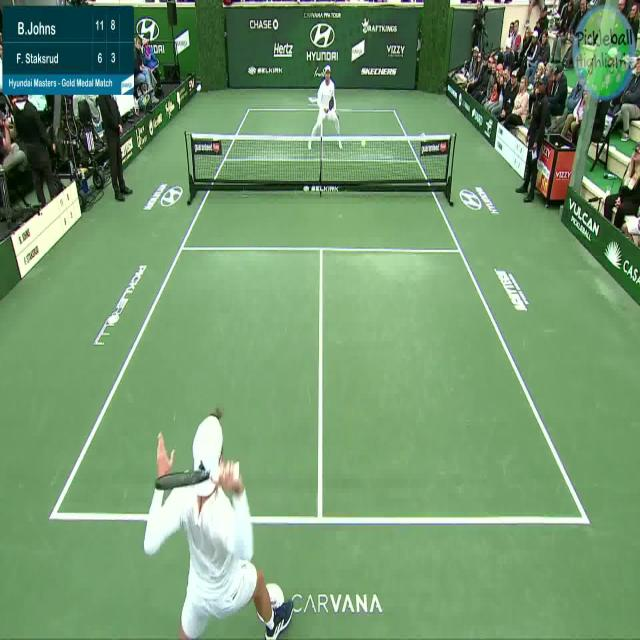Court: (49, 110, 588, 525)
ball: (358, 130, 370, 154)
